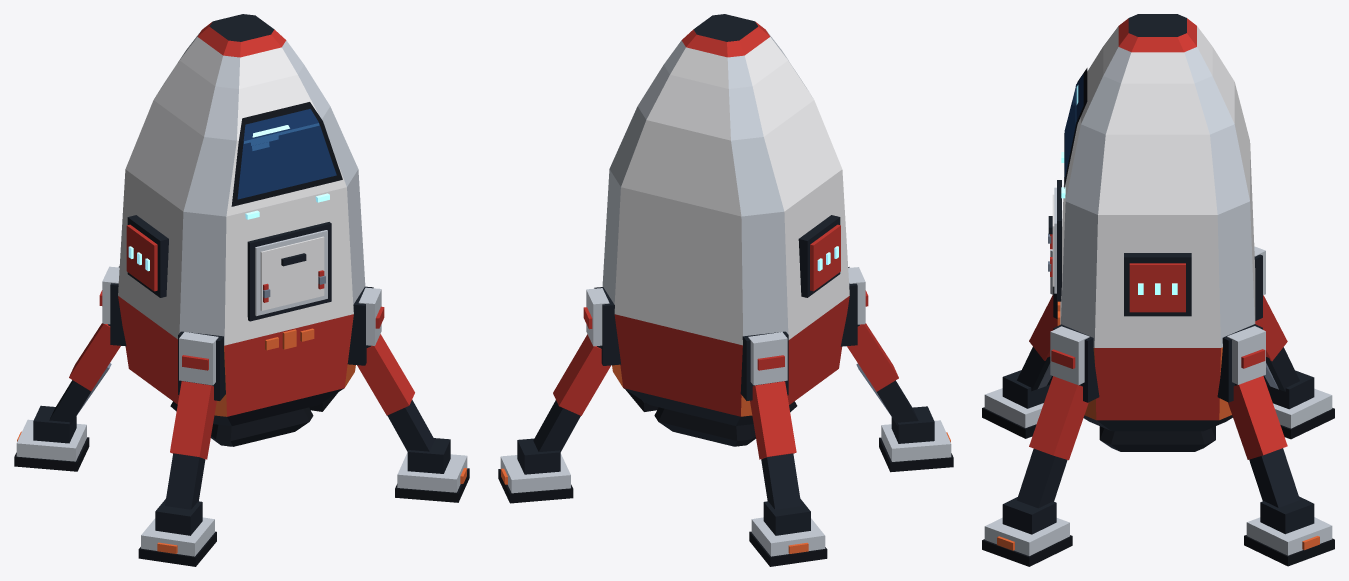
Rendered from redrock-lander.glb.
The picture shows the model from 3 angles, left to right: view 1: azimuth 30°, elevation 25°; view 2: azimuth 150°, elevation 25°; view 3: azimuth 270°, elevation 25°; orthographic projection. The views are drawn at different scales.
Parts seen in each view (by area): view 1: Redrock Lander - NASA-inspired; view 2: Redrock Lander - NASA-inspired; view 3: Redrock Lander - NASA-inspired.
Part boxes in pixels (box(x1,y1,x2,y2)): Redrock Lander - NASA-inspired: box(14, 14, 469, 566); Redrock Lander - NASA-inspired: box(498, 14, 953, 566); Redrock Lander - NASA-inspired: box(982, 14, 1334, 566).
Bounding box in the file's own units: 2.31 × 2.96 × 2.07.
